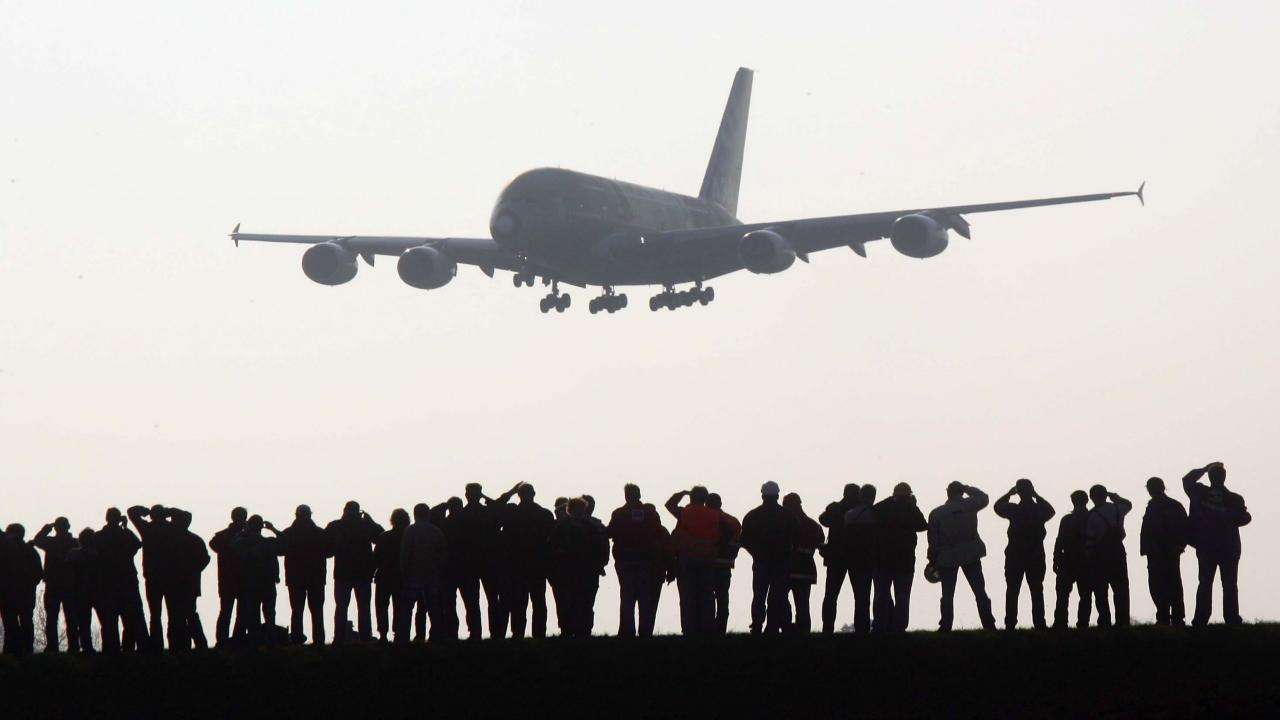Airplane: (218, 59, 1165, 326)
